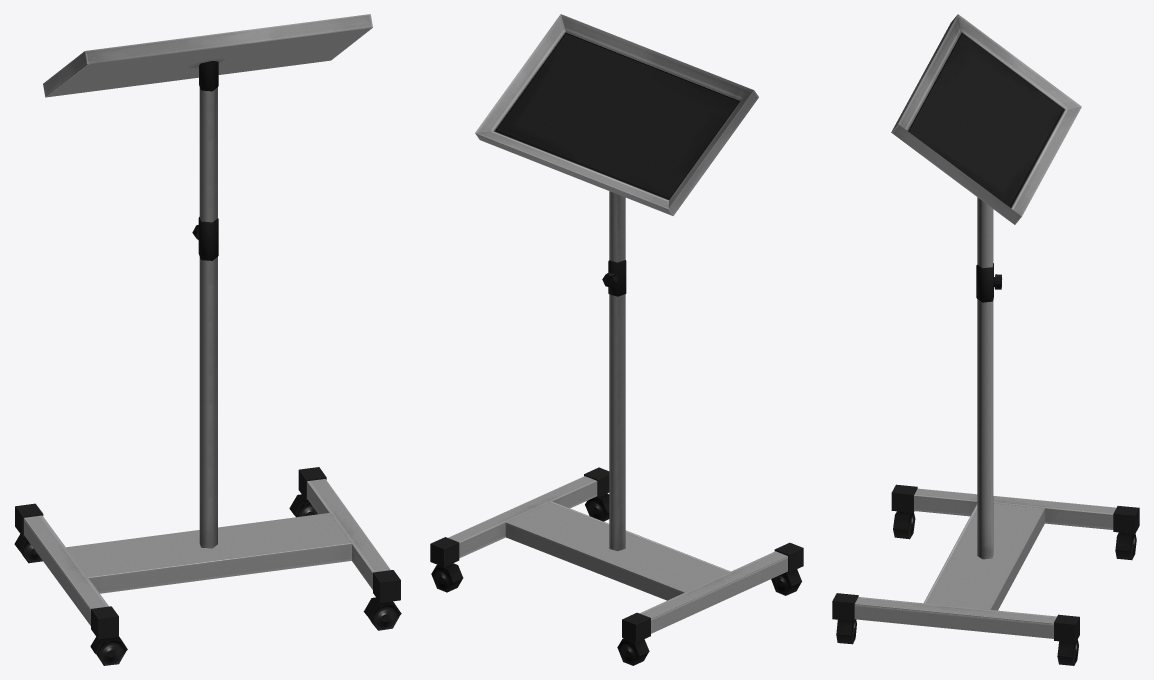
Rendered from note_stand-1.FBX.
3 renders of one model, left to right at view 1: azimuth 30°, elevation 25°; view 2: azimuth 150°, elevation 25°; view 3: azimuth 270°, elevation 25°, orthographic. The views are drawn at different scales.
Parts seen in each view (by area): view 1: note_stand-1_LOD0; view 2: note_stand-1_LOD0; view 3: note_stand-1_LOD0.
Boxes of the visible parts, x1,y1,x2,y2 form: note_stand-1_LOD0: (14, 14, 401, 665); note_stand-1_LOD0: (430, 14, 803, 665); note_stand-1_LOD0: (832, 14, 1139, 665).
Bounding box in the file's own units: 26.23 × 45.49 × 24.15.
